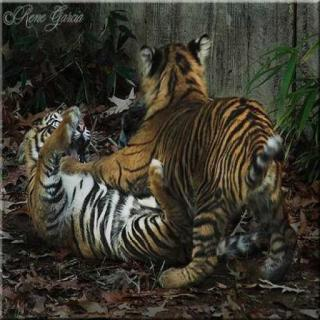Tiger: (79, 31, 300, 291), (12, 96, 198, 272)
